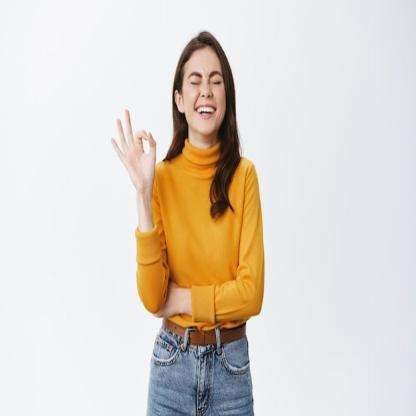ok: (109, 107, 161, 204)
